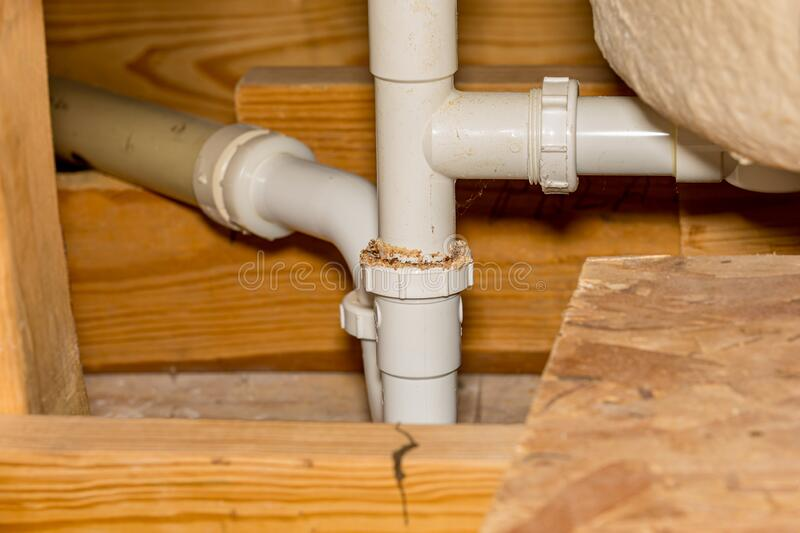Low: (350, 226, 479, 275)
